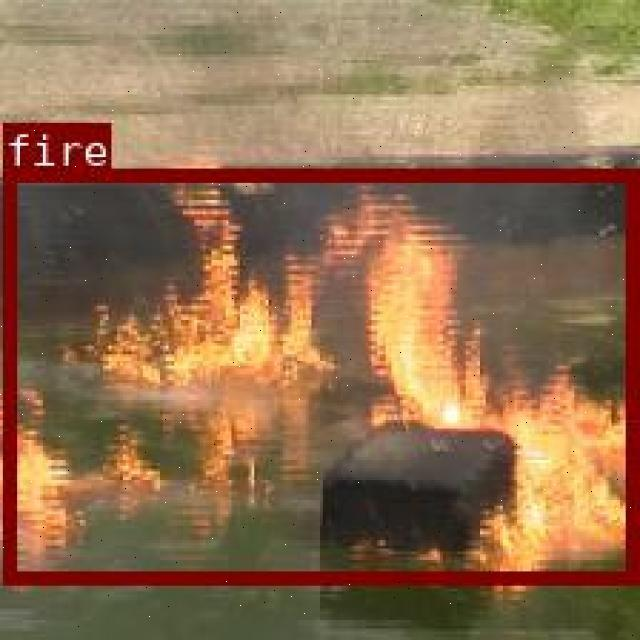fire: (1, 168, 635, 580)
